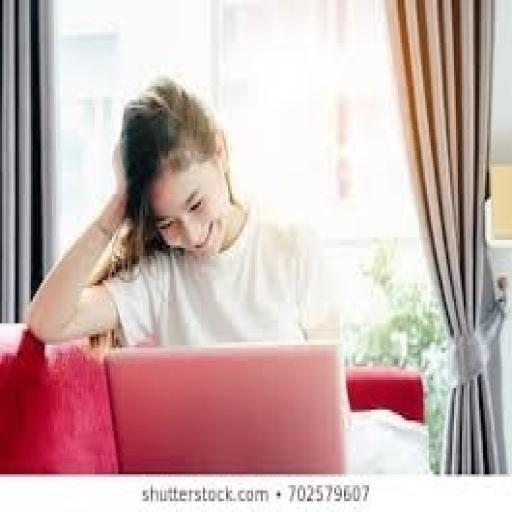using_laptop: (102, 340, 350, 474)
